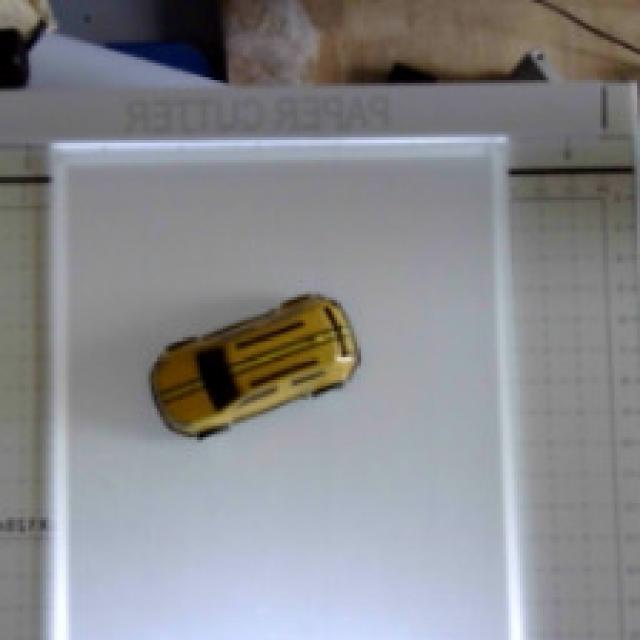Yellow Car: (124, 253, 448, 502)
